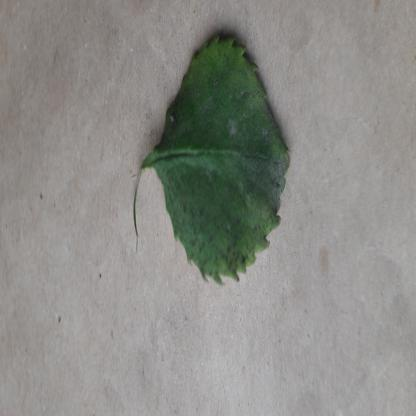black-spot: (158, 36, 289, 278)
